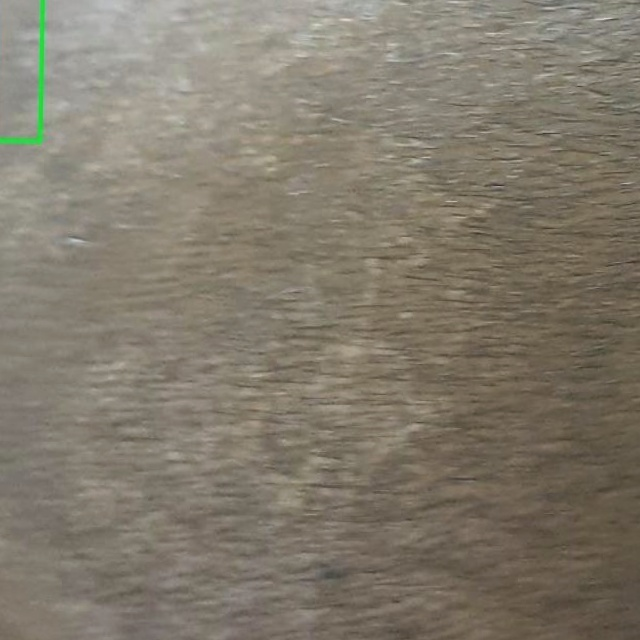Seborrheic Dermatitis: (0, 0, 42, 141)
